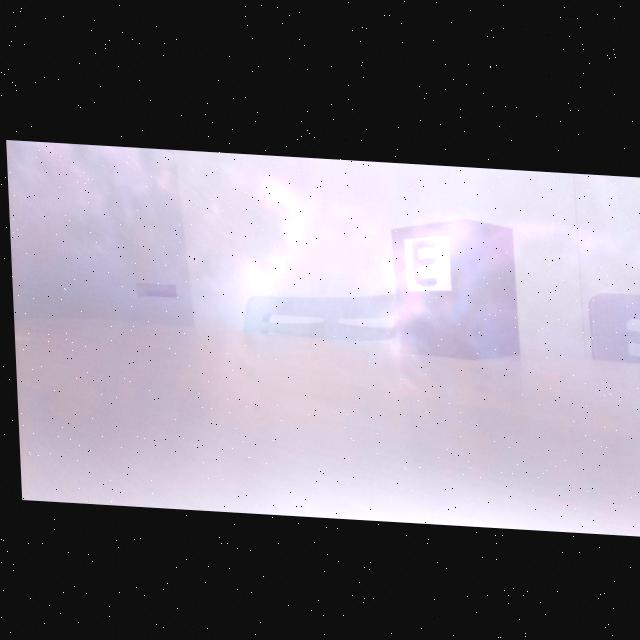E: (410, 236, 437, 280)
